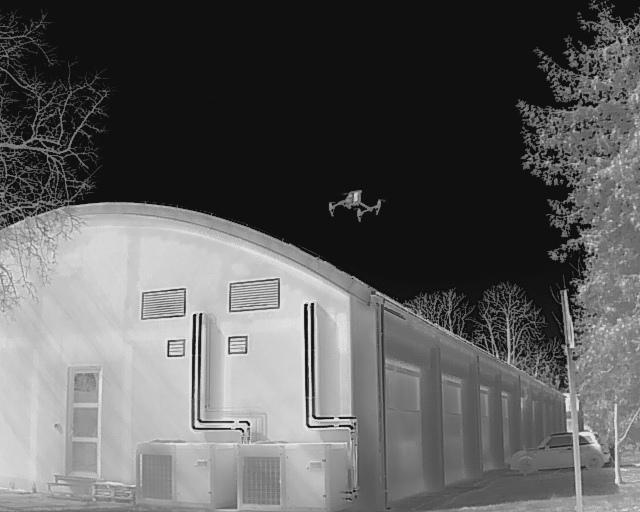drone: (317, 185, 391, 229)
